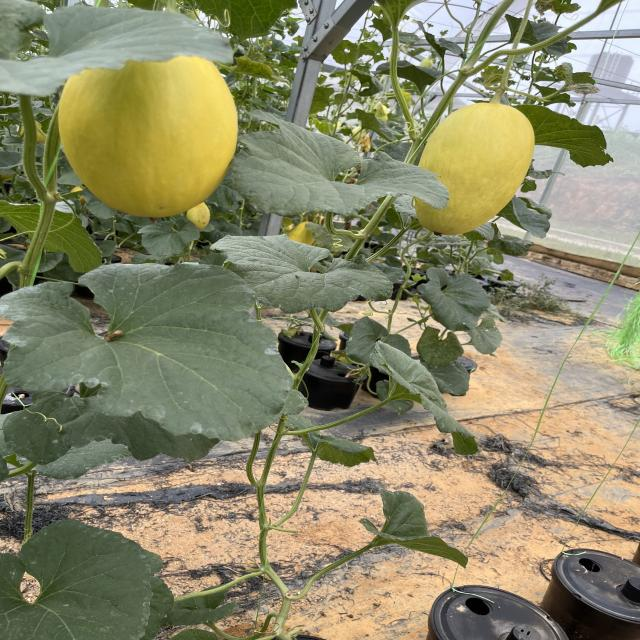CMV: (2, 258, 286, 444), (220, 101, 452, 219)
SLCV: (232, 50, 300, 80)
alternaria leaf blight: (547, 61, 603, 99), (474, 65, 510, 85)
downy mildew: (0, 522, 157, 640), (511, 104, 616, 170)
healthy: (222, 242, 388, 310), (374, 352, 468, 442), (367, 478, 456, 562), (416, 268, 491, 330), (302, 434, 379, 474)
